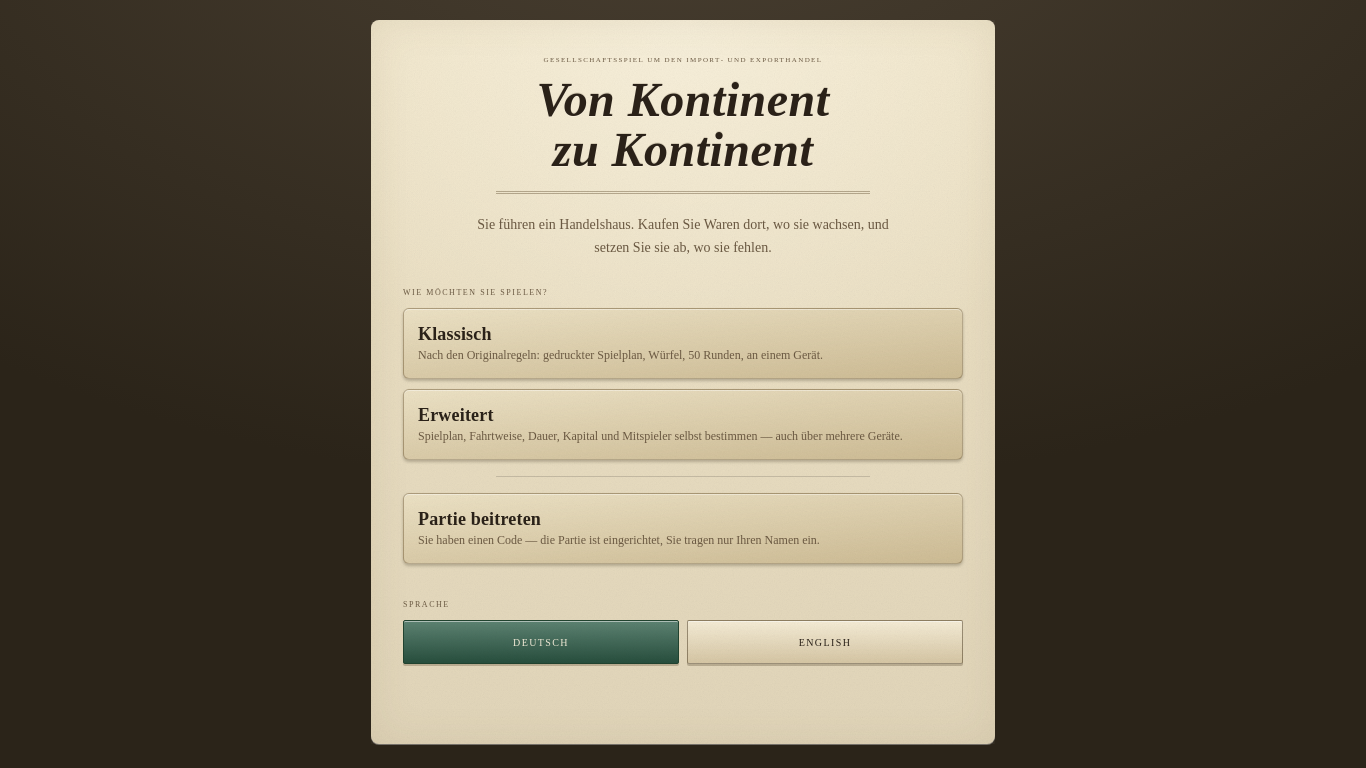
the front page › offers the two modes and walks the classic path to the names
This screenshot has width=1366, height=768.
Expected: the heading "Von Kontinent" is shown, [536,72,830,126]
Expected: the text "Erweitert" is shown, [418,404,494,426]
Click the text "Klassisch". click: (455, 334)
box: [418,323,492,345]
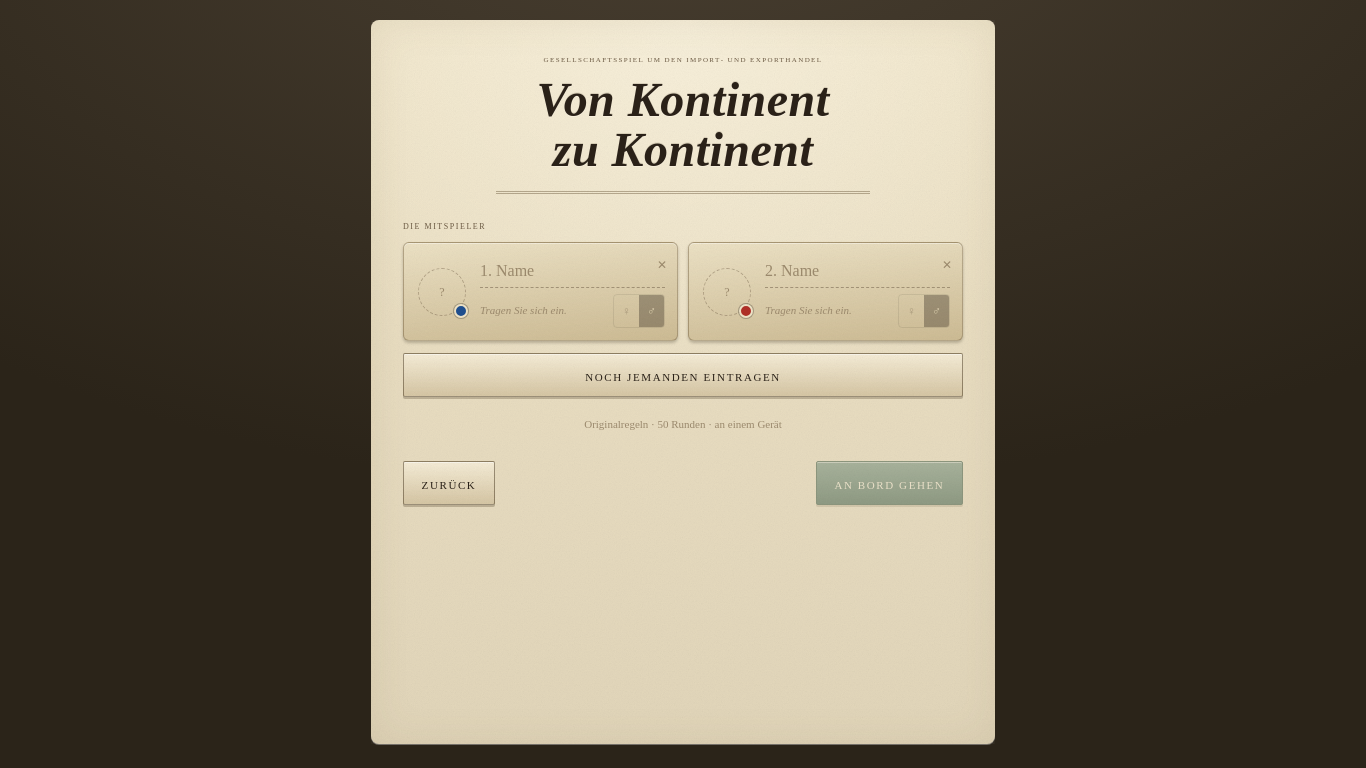
Expected: the button "An Bord gehen" is disabled, [816,461,963,505]
Type "Tobias" into the field with placeholder "1. Name". click: (572, 272)
box: [480,255,665,288]
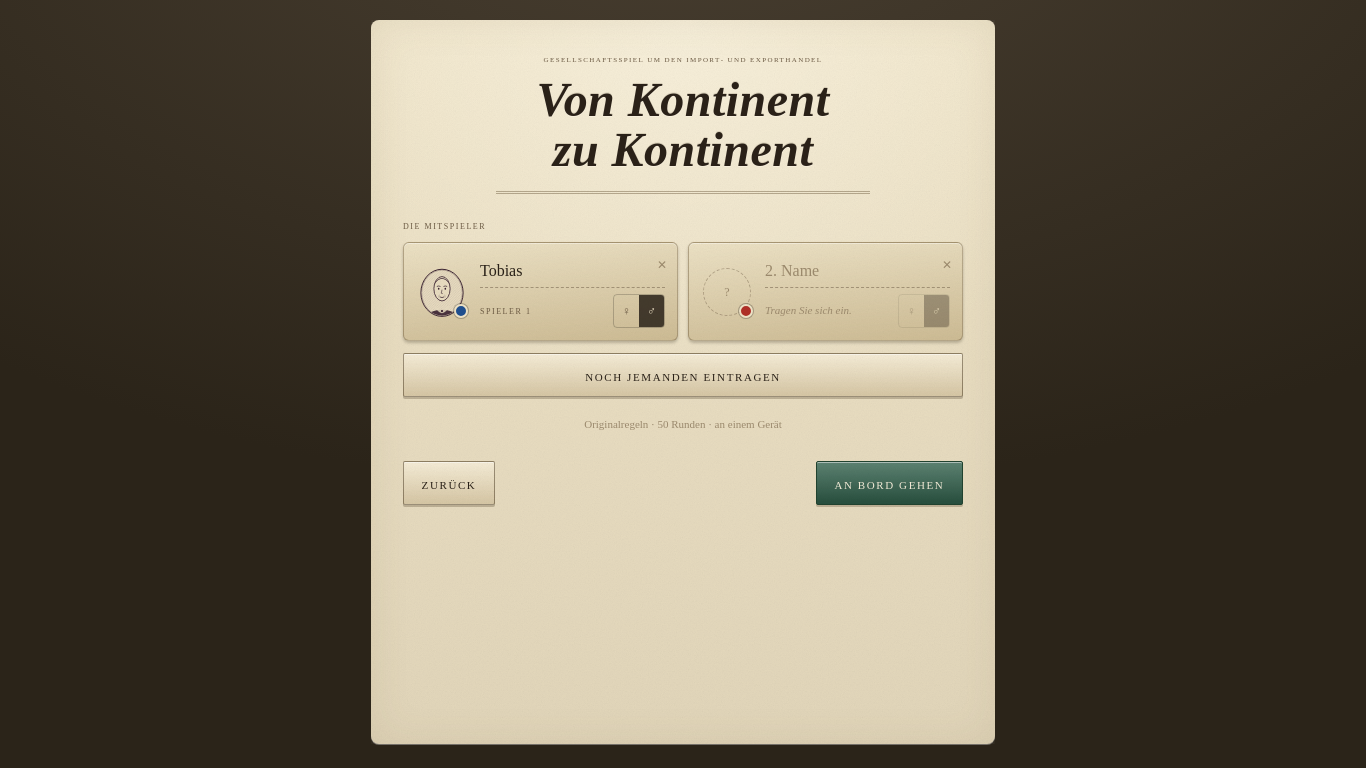
Expected: the text "Spieler 1" is shown, [480,304,531,316]
Expected: the icon is shown, [416,266,468,318]
Expected: the button "An Bord gehen" is enabled, [816,461,963,505]
